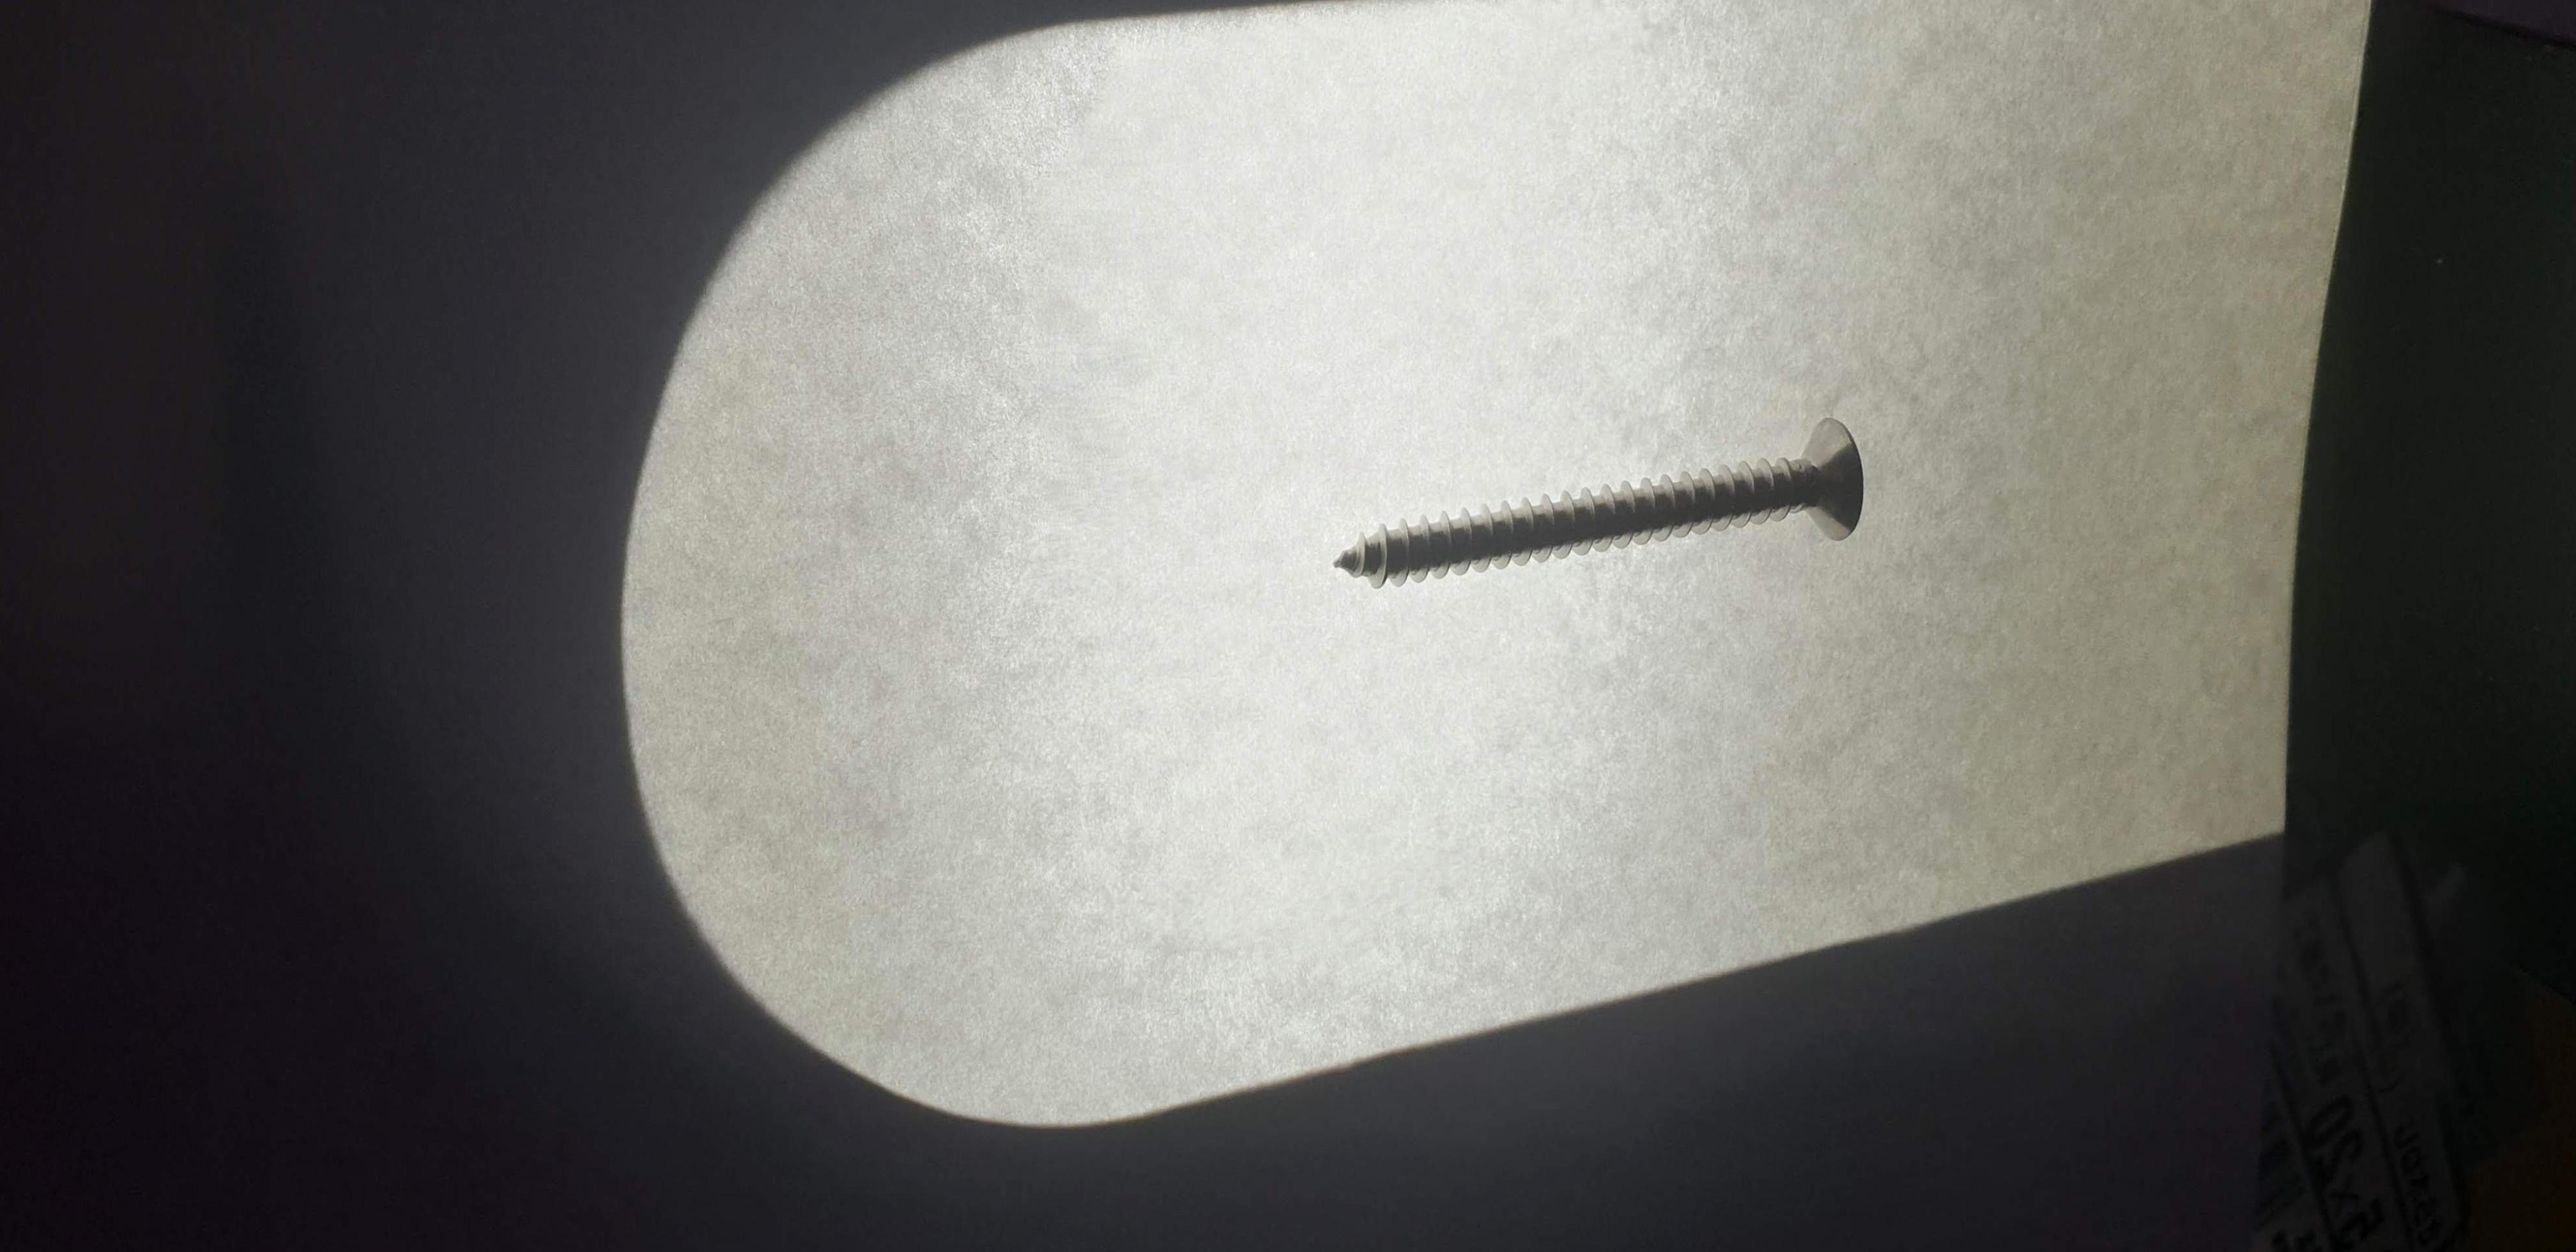S001: (1291, 380, 1934, 647)
